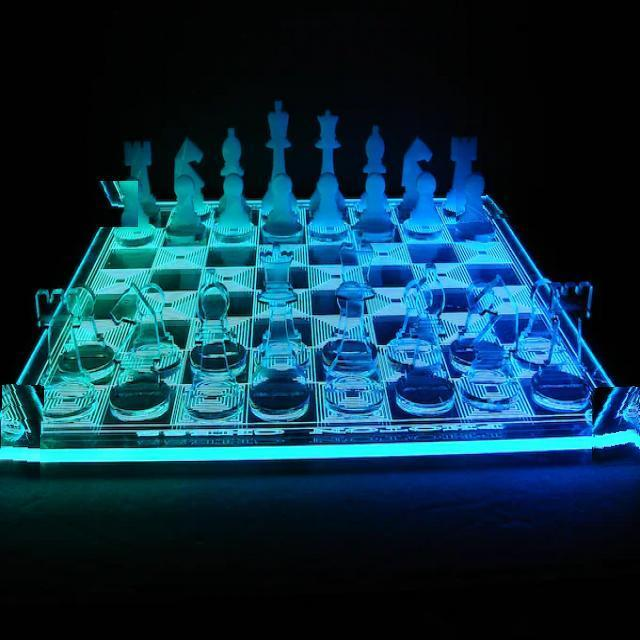chess-table-corners: (0, 385, 43, 484), (592, 387, 640, 467), (456, 171, 515, 222), (96, 181, 138, 227)
